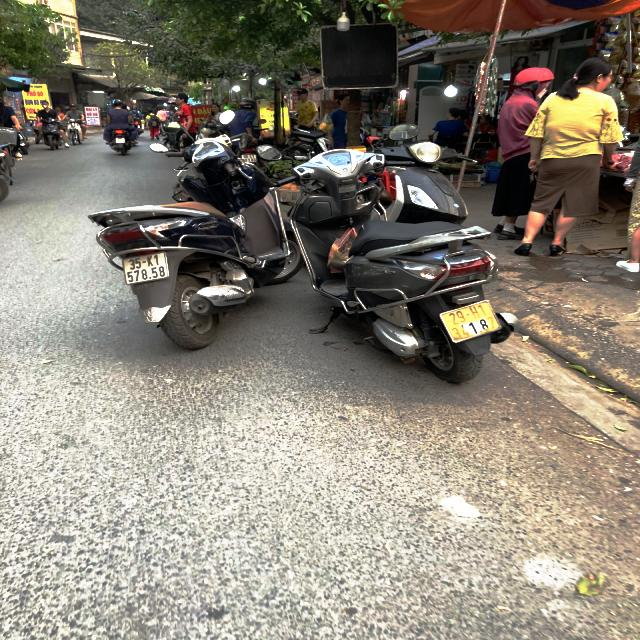license_plate: (437, 296, 511, 348), (116, 249, 177, 290)
